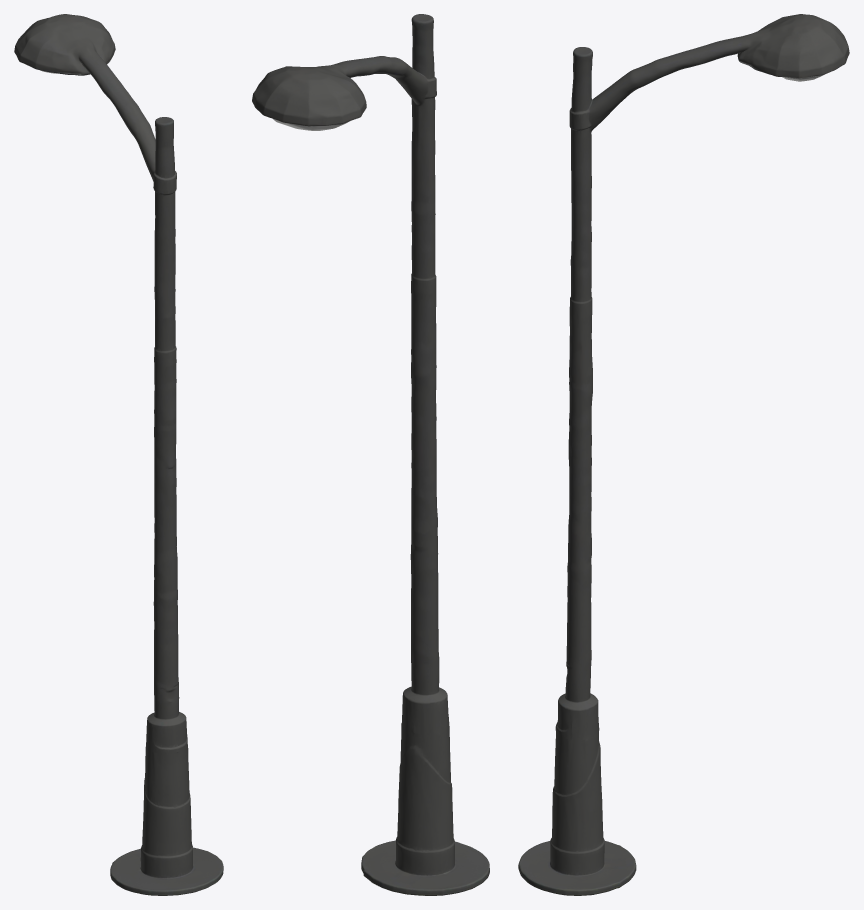
Rendered from light post.glb.
3 renders of one model, left to right at view 1: azimuth 30°, elevation 25°; view 2: azimuth 150°, elevation 25°; view 3: azimuth 270°, elevation 25°, orthographic. The views are drawn at different scales.
Visible parts, largest first — view 1: tripo_node_247b49ae-fc32-4ad4-8bde-0d16ef293d7b; view 2: tripo_node_247b49ae-fc32-4ad4-8bde-0d16ef293d7b; view 3: tripo_node_247b49ae-fc32-4ad4-8bde-0d16ef293d7b.
Part boxes in pixels (x1=…): tripo_node_247b49ae-fc32-4ad4-8bde-0d16ef293d7b: x1=14, y1=14, x2=223, y2=895; tripo_node_247b49ae-fc32-4ad4-8bde-0d16ef293d7b: x1=252, y1=14, x2=489, y2=895; tripo_node_247b49ae-fc32-4ad4-8bde-0d16ef293d7b: x1=518, y1=14, x2=849, y2=895.
Bounding box in the file's own units: 0.1354 × 1 × 0.3542.
Materials: 1 (1 with a texture image).
